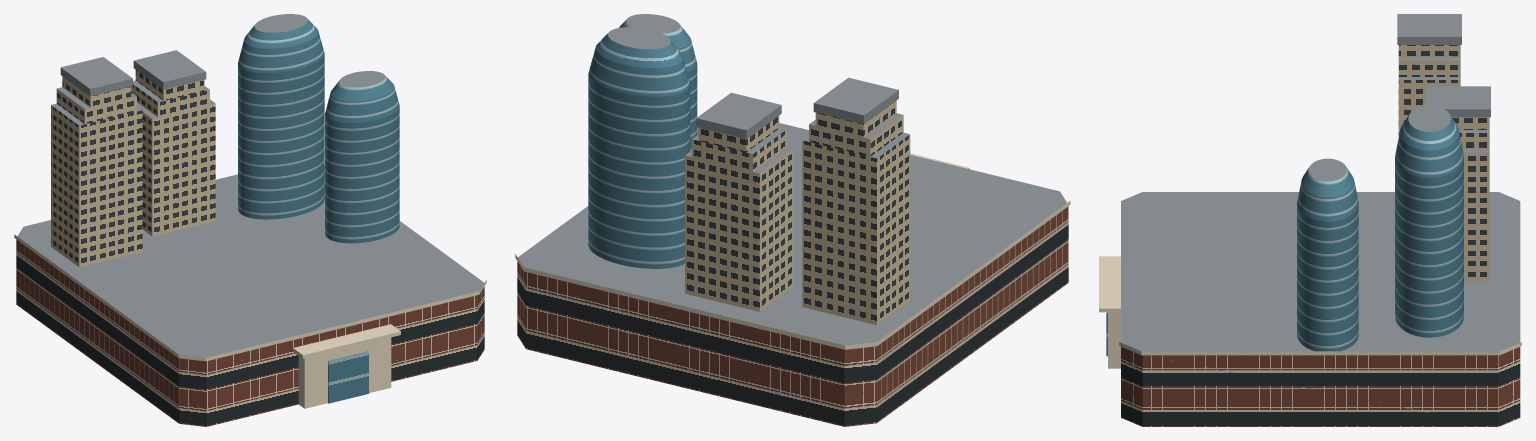
Rendered from the-gardens-mall.glb.
3 renders of one model, left to right at view 1: azimuth 30°, elevation 25°; view 2: azimuth 150°, elevation 25°; view 3: azimuth 270°, elevation 25°, orthographic. The views are drawn at different scales.
Visible parts, largest first — view 1: TheGardens; view 2: TheGardens; view 3: TheGardens.
Part boxes in pixels (x1=…): TheGardens: x1=14, y1=14, x2=486, y2=426; TheGardens: x1=515, y1=14, x2=1070, y2=426; TheGardens: x1=1099, y1=14, x2=1521, y2=426.
Bounding box in the file's own units: 107 × 82 × 116.
Materials: 5 (3 with a texture image).
